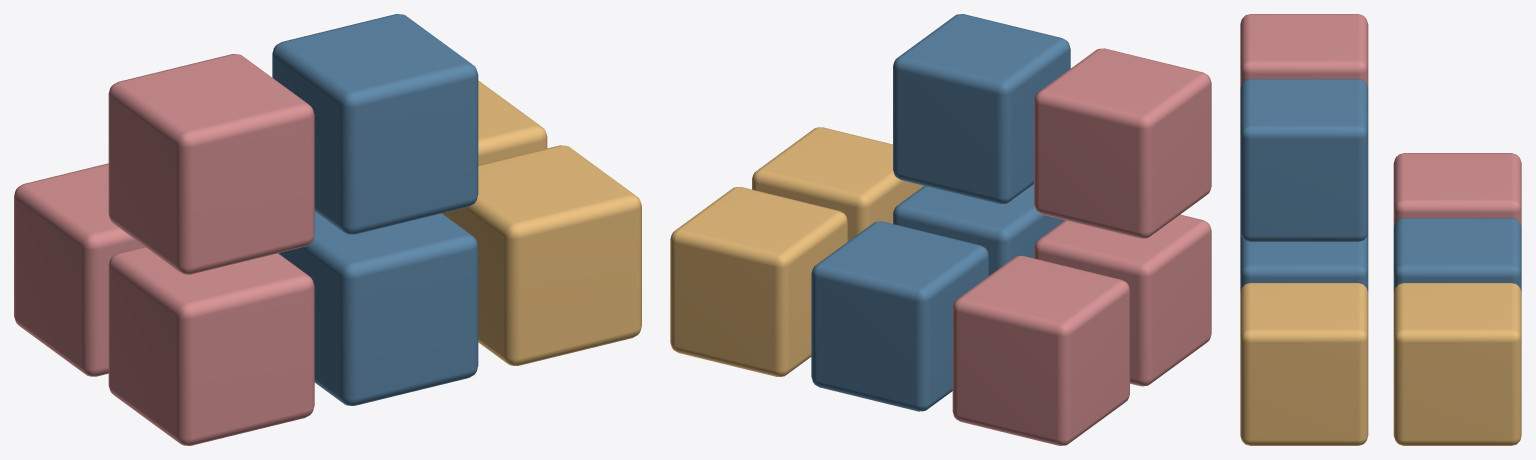
The model's file is atelier-toy-blocks.glb.
3 renders of one model, left to right at view 1: azimuth 30°, elevation 25°; view 2: azimuth 150°, elevation 25°; view 3: azimuth 270°, elevation 25°, orthographic. The views are drawn at different scales.
Visible parts, largest first — view 1: flower.005, artBlue.030, artGold.018; view 2: flower.005, artBlue.030, artGold.018; view 3: artGold.018, artBlue.030, flower.005.
Boxes of the visible parts, x1,y1,x2,y2 form: flower.005: (14,54,314,445); artBlue.030: (272,14,478,405); artGold.018: (442,80,641,365); flower.005: (952,48,1211,445); artBlue.030: (811,14,1070,411); artGold.018: (670,127,923,376); artGold.018: (1240,283,1521,445); artBlue.030: (1240,79,1521,292); flower.005: (1240,14,1521,227).
Bounding box in the file's own units: 0.34 × 0.22 × 0.22.
